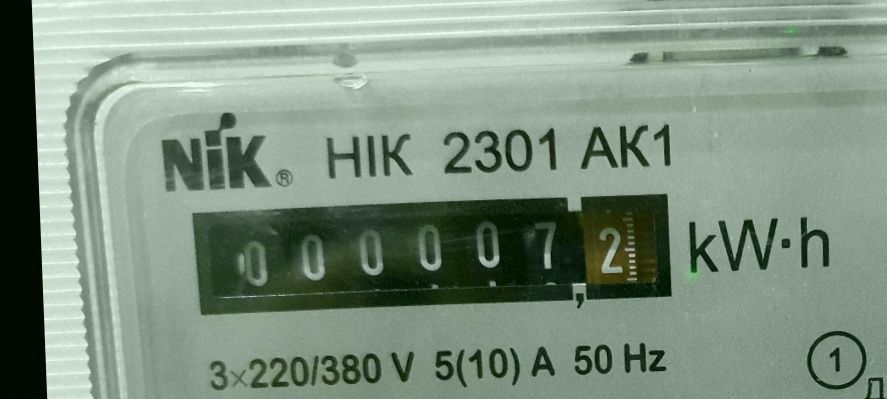0: (294, 229, 330, 283), (470, 218, 504, 272), (412, 219, 445, 274), (354, 225, 387, 278), (238, 236, 271, 288)
2: (594, 224, 626, 276)
7: (529, 217, 560, 273)
screen: (173, 174, 692, 335)
